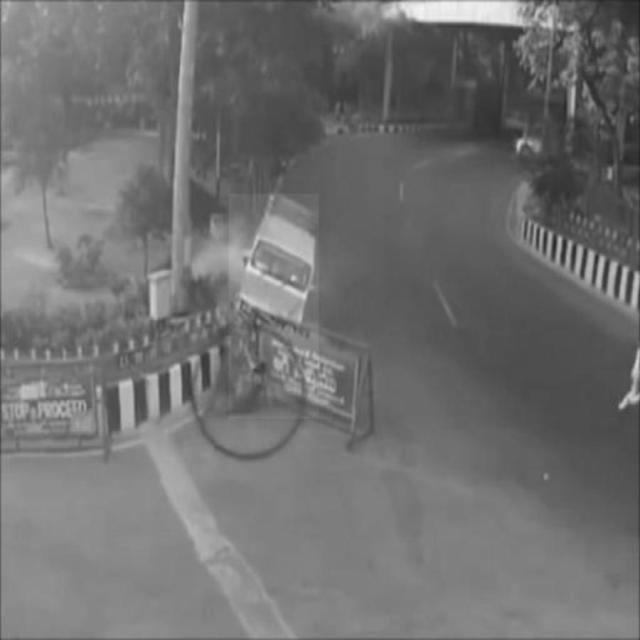accident: (229, 194, 319, 418)
